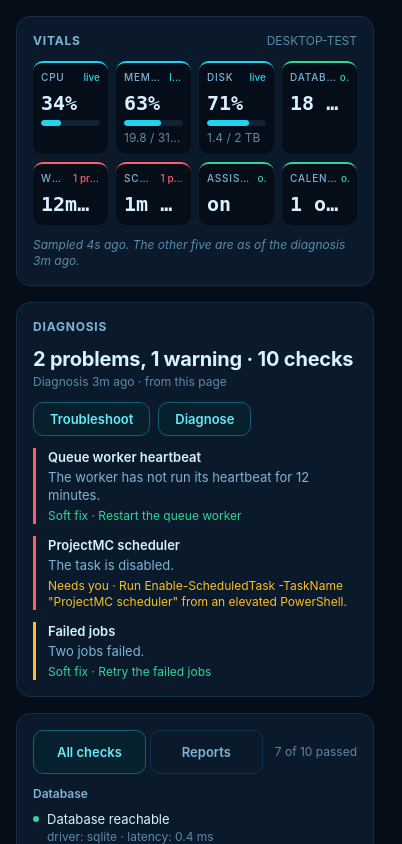
Test: all checks and reports, as tabs › opens on All checks, and Reports replaces it in the same card
This screenshot has width=402, height=844.
Step 1. Click the tab "Reports" → coordinates (206, 752), box [150, 730, 263, 774]
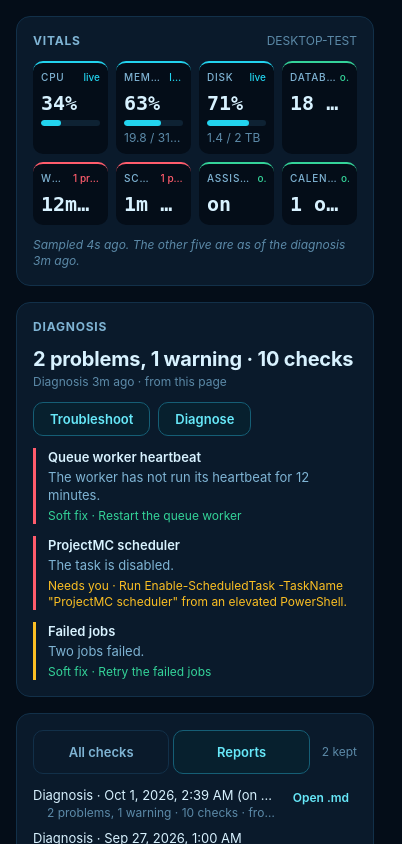
Now the element with test id "stats-reports" is shown, box [33, 786, 357, 843]
Now the text "2 kept" is shown, box [322, 744, 357, 760]
Step 2. Click the tab "All checks" → coordinates (101, 752), box [33, 730, 169, 774]
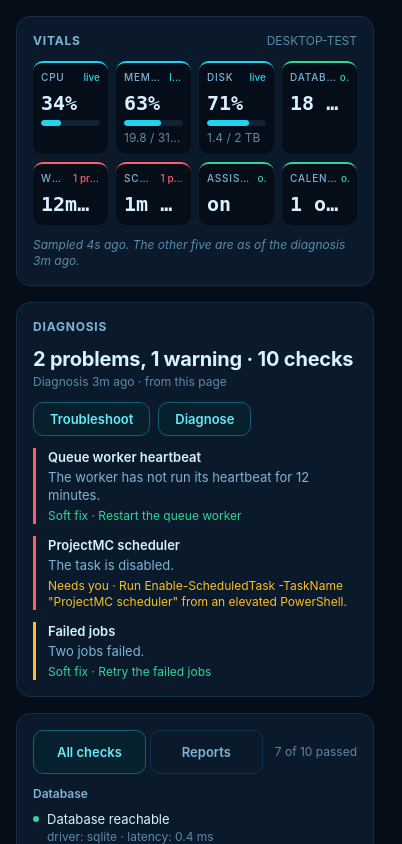
Now the text "7 of 10 passed" is shown, box [275, 744, 357, 760]
